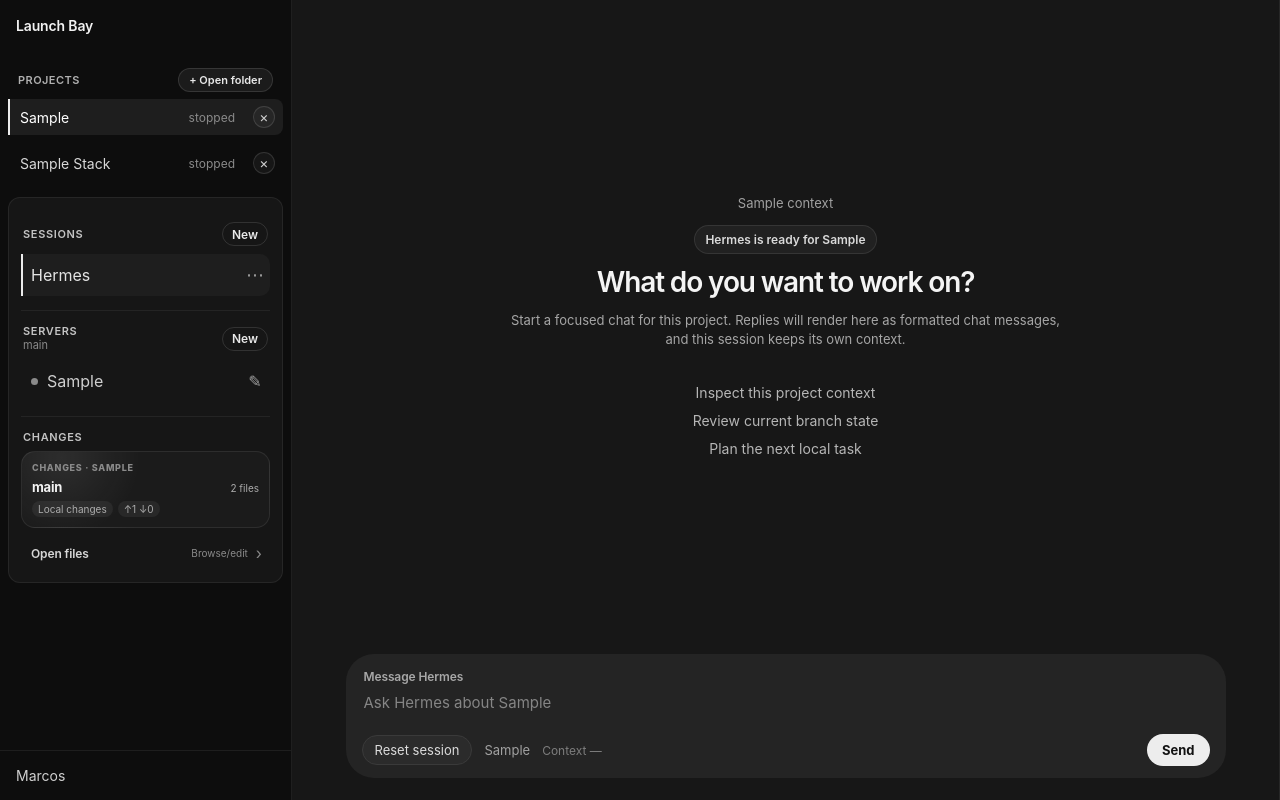
it: Launch Bay shell › refreshes the project file tree automatically when the app regains focus
Click the button with aria-label "Open project files" at (146, 553), box 21,536 -> 270,570
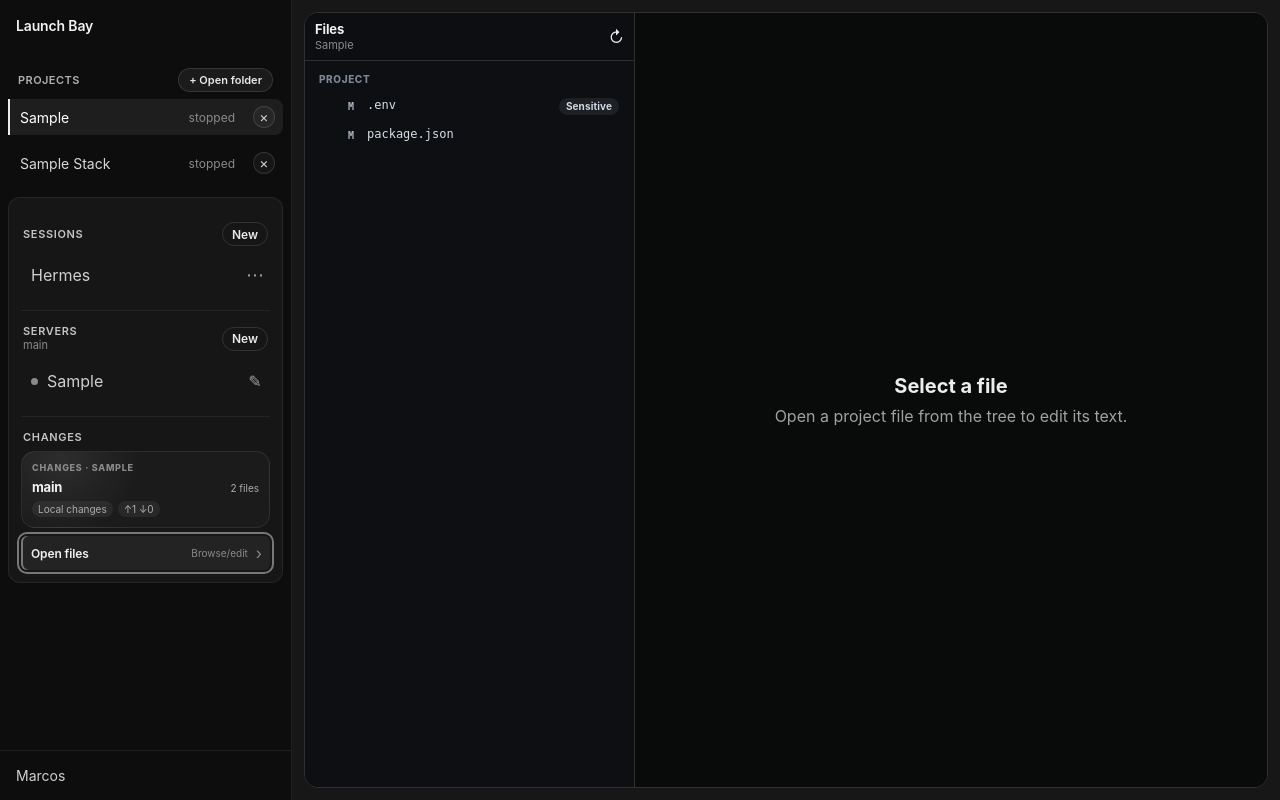
Expected: the button with aria-label "Open .env" is shown, 313,92 -> 626,120
Expected: the button with aria-label "Open package.json" is shown, 313,121 -> 626,149
